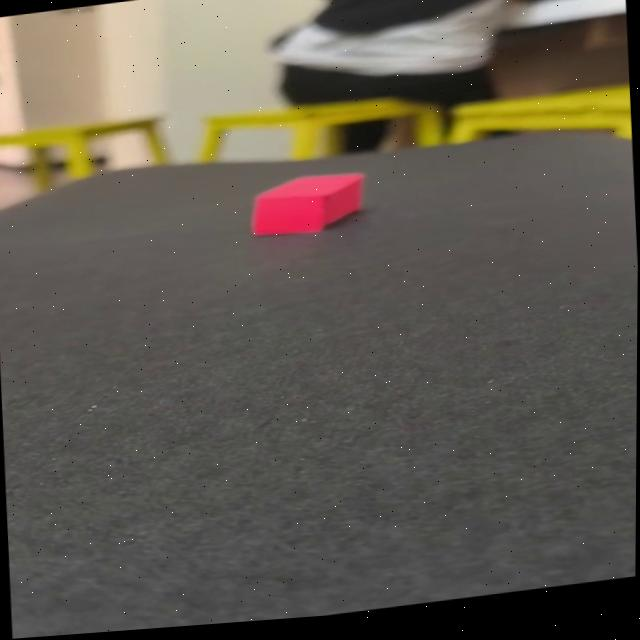red block: (248, 166, 369, 240)
